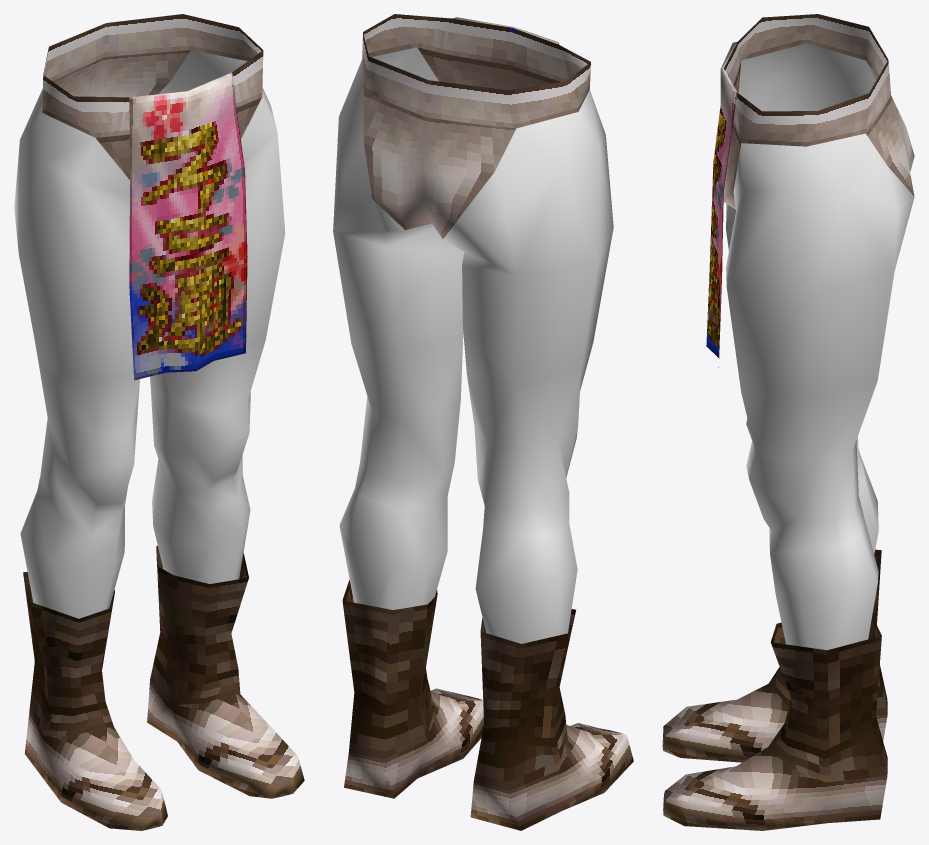
Rendered from m_reg218.glb.
3 views of the same model, side by side, from view 1: azimuth 30°, elevation 25°; view 2: azimuth 150°, elevation 25°; view 3: azimuth 270°, elevation 25° (orthographic). The views are drawn at different scales.
Bounding box in the file's own units: 39.97 × 108 × 34.24.
Materials: 2 (1 with a texture image).
